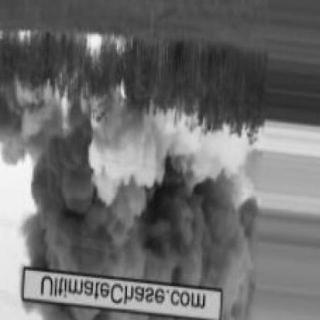Fire: (11, 29, 139, 137)
Smoke: (39, 117, 271, 317)
